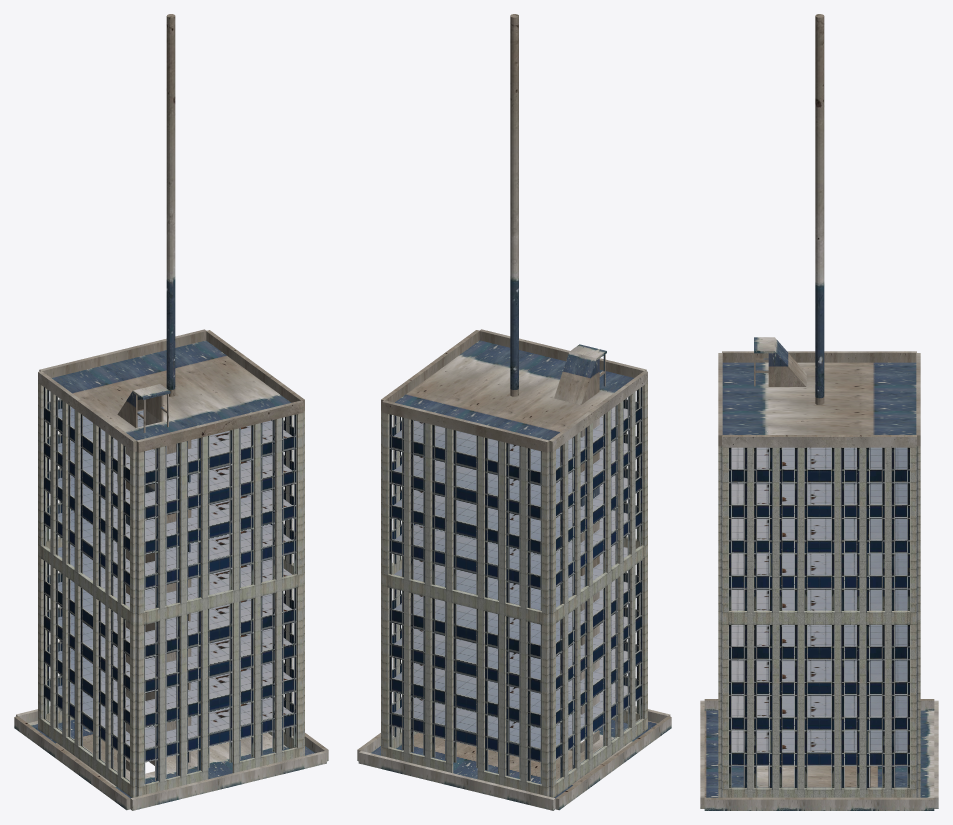
File: BagSS02top_500.fbx
3 renders of one model, left to right at view 1: azimuth 30°, elevation 25°; view 2: azimuth 150°, elevation 25°; view 3: azimuth 270°, elevation 25°, orthographic. The views are drawn at different scales.
Parts seen in each view (by area): view 1: topMain500, rooftop500, topFloor500; view 2: topMain500, rooftop500, topFloor500; view 3: topMain500, rooftop500, topFloor500.
Part boxes in pixels (box(x1,y1,x2,y2)): topMain500: box(38, 383, 304, 797); rooftop500: box(14, 14, 328, 810); topFloor500: box(58, 407, 291, 748); topMain500: box(381, 383, 647, 797); rooftop500: box(357, 14, 671, 810); topFloor500: box(394, 407, 627, 748); topMain500: box(718, 446, 920, 797); rooftop500: box(700, 14, 938, 810); topFloor500: box(731, 447, 907, 751).
Size of the model in its own units: 38.63 by 133 by 38.63.
